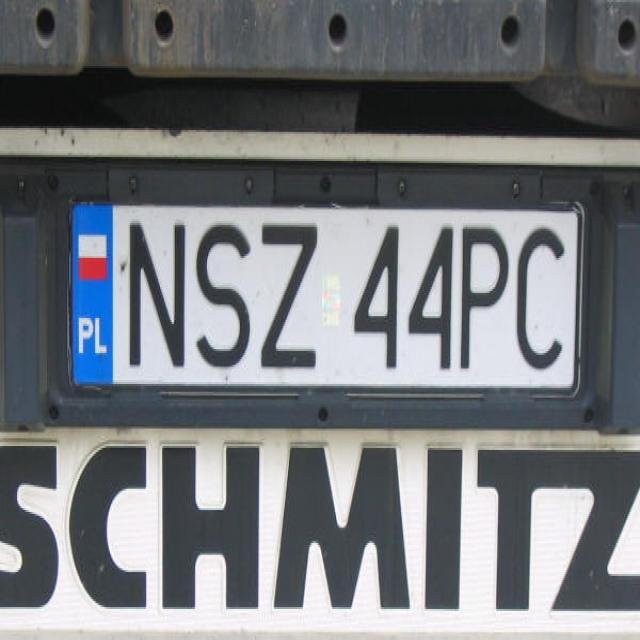license-plates: (71, 204, 581, 390)
